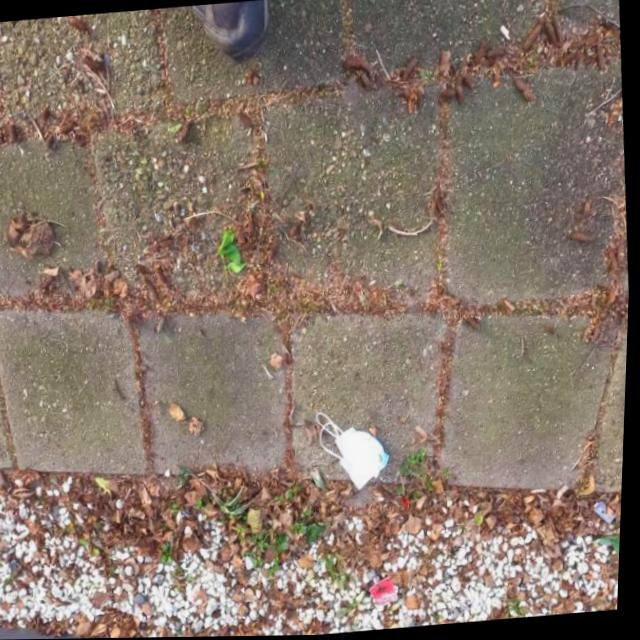Mask: (315, 405, 397, 497)
